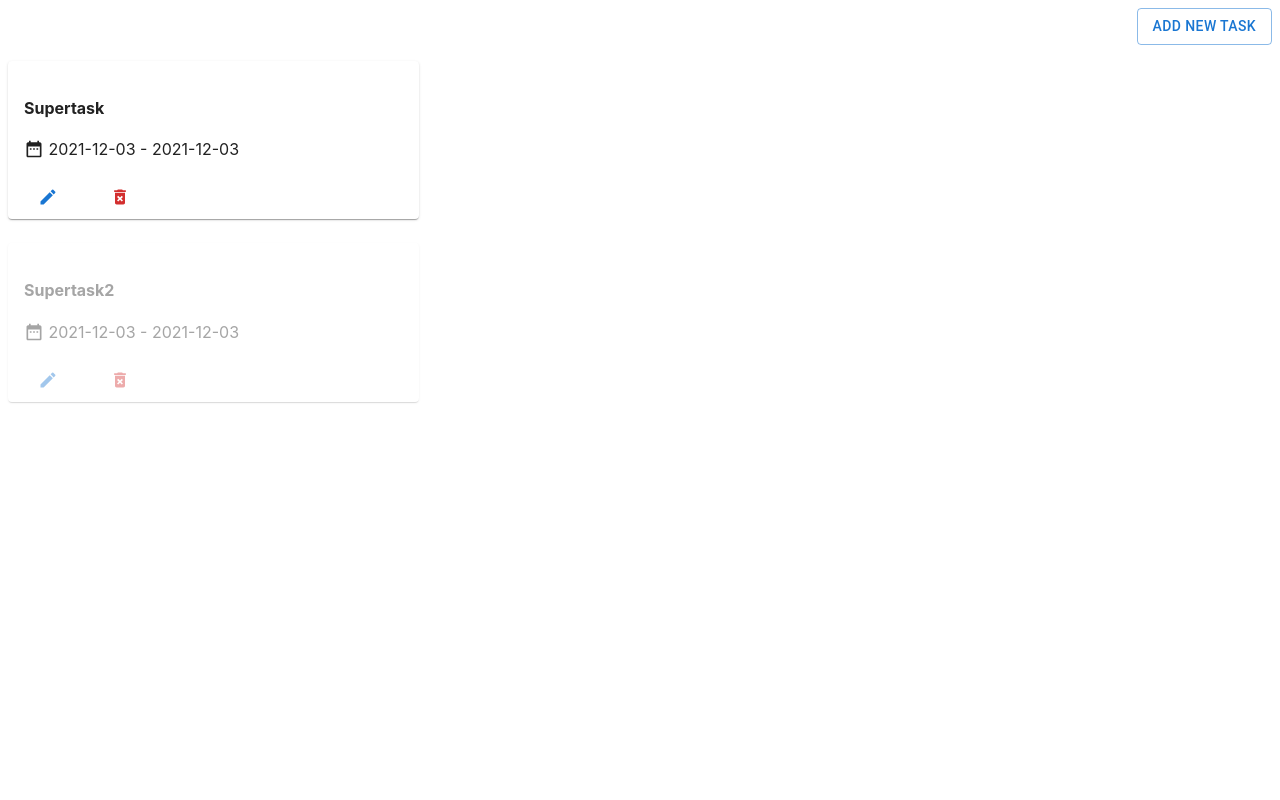
Scenario: E2e test cases for Task page - edit functionality › should edit active task
Click the button with test id "edit-task-btn" at point(48, 197), box [16, 183, 80, 211]
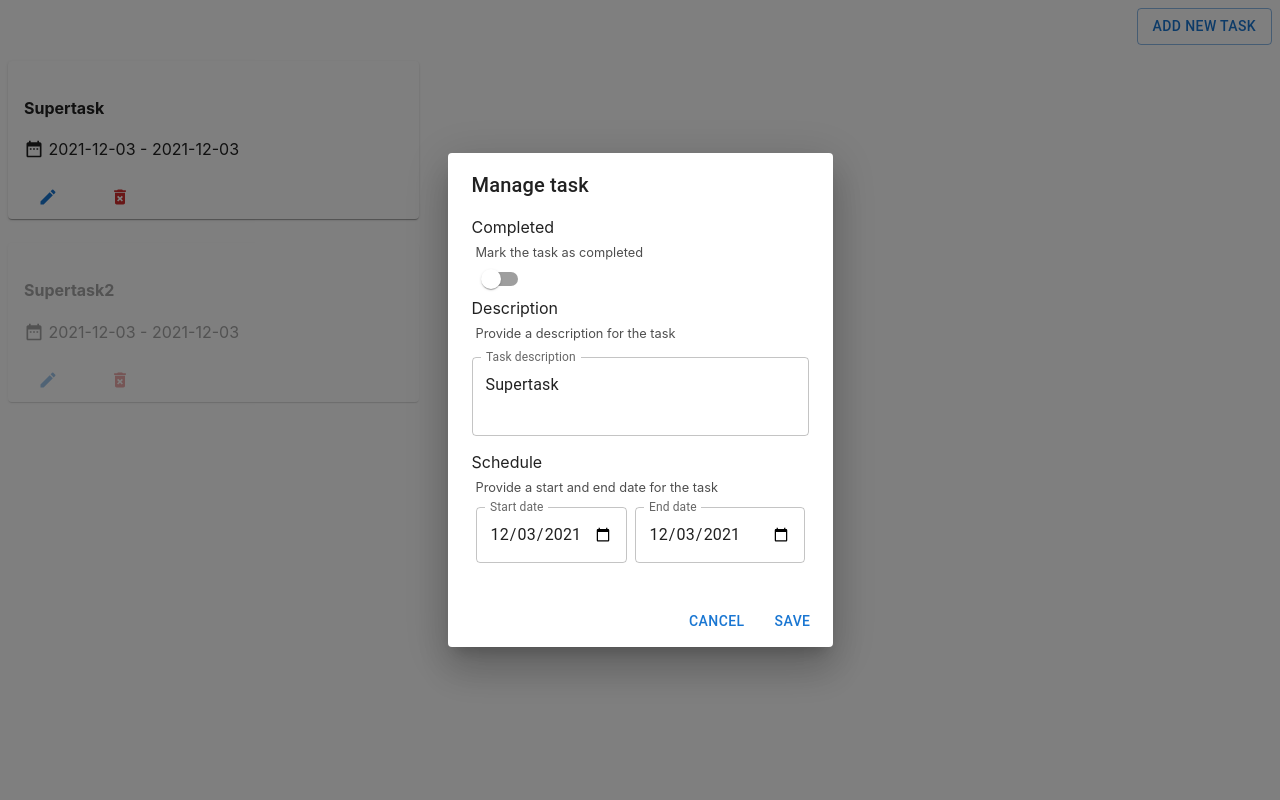
Expected: the element with test id "manage-task-dialog" is shown
Expected: the text box with test id "task-description-input" holds "Supertask"
Clear the text box with test id "task-description-input" at point(641, 396), box [486, 373, 795, 419]
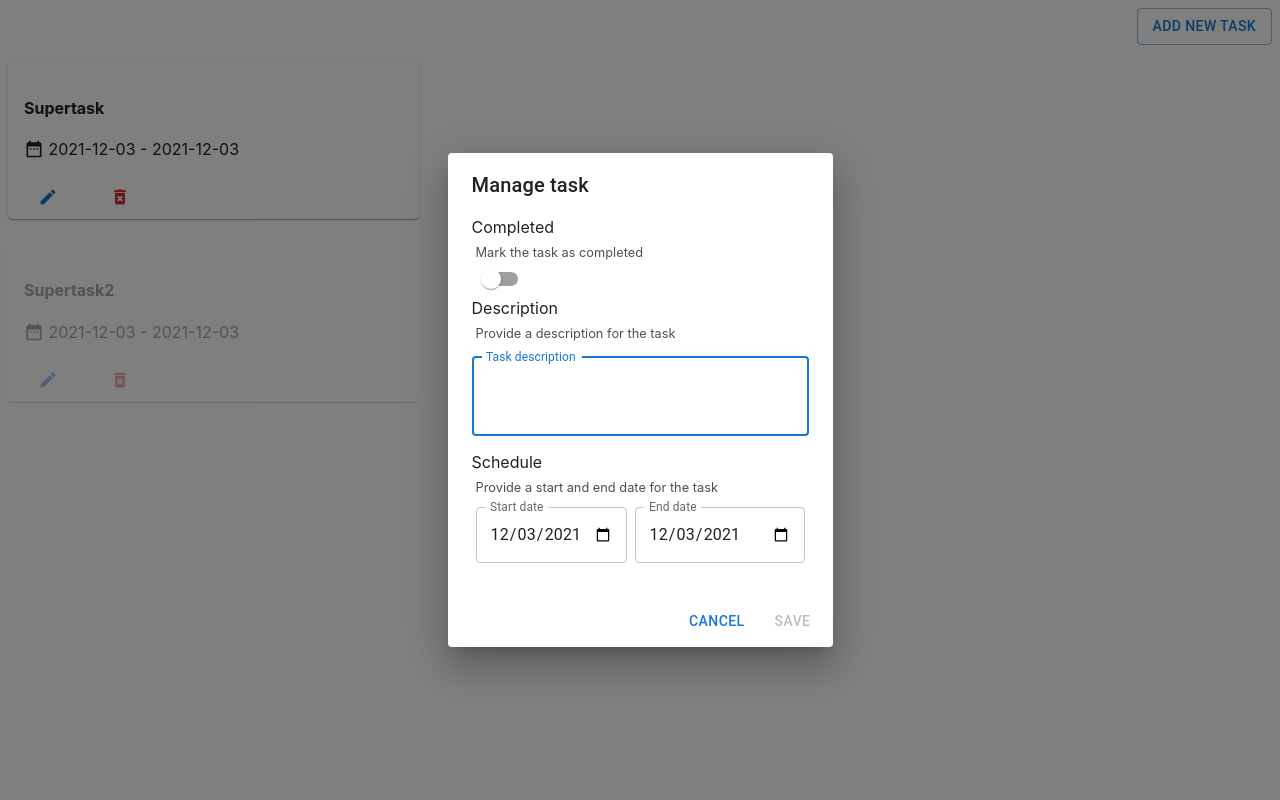
Expected: the button with test id "save-task-btn" is disabled, [761, 603, 825, 640]
